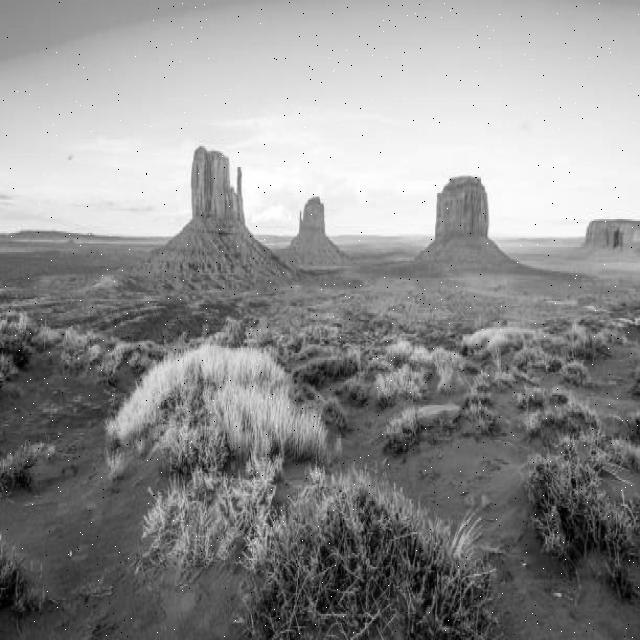Sedimentary: (140, 137, 287, 290), (422, 163, 505, 270)
